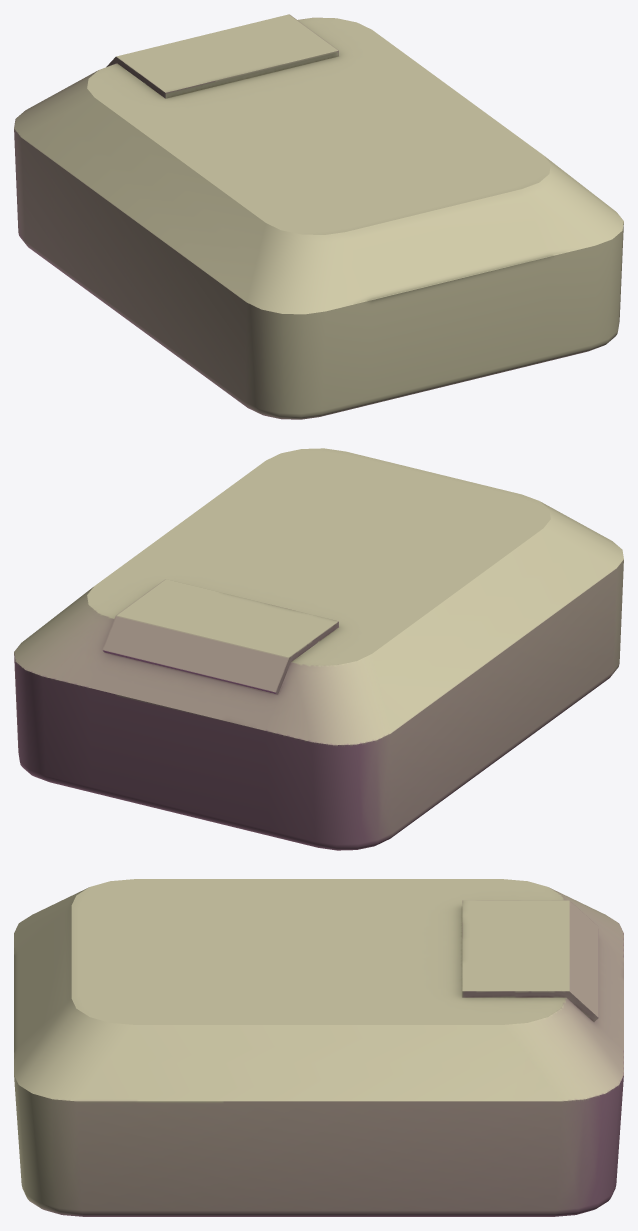
The model's file is Mouse.fbx.
The picture shows the model from 3 angles, top to bottom: view 1: azimuth 30°, elevation 25°; view 2: azimuth 150°, elevation 25°; view 3: azimuth 270°, elevation 25°; orthographic projection. The views are drawn at different scales.
Parts seen in each view (by area): view 1: Mouse; view 2: Mouse; view 3: Mouse.
Part boxes in pixels (bbox=[...]): Mouse: bbox=[14, 14, 623, 419]; Mouse: bbox=[14, 448, 623, 850]; Mouse: bbox=[14, 879, 623, 1216].
Size of the model in its own units: 5.05 by 2.16 by 6.7.
